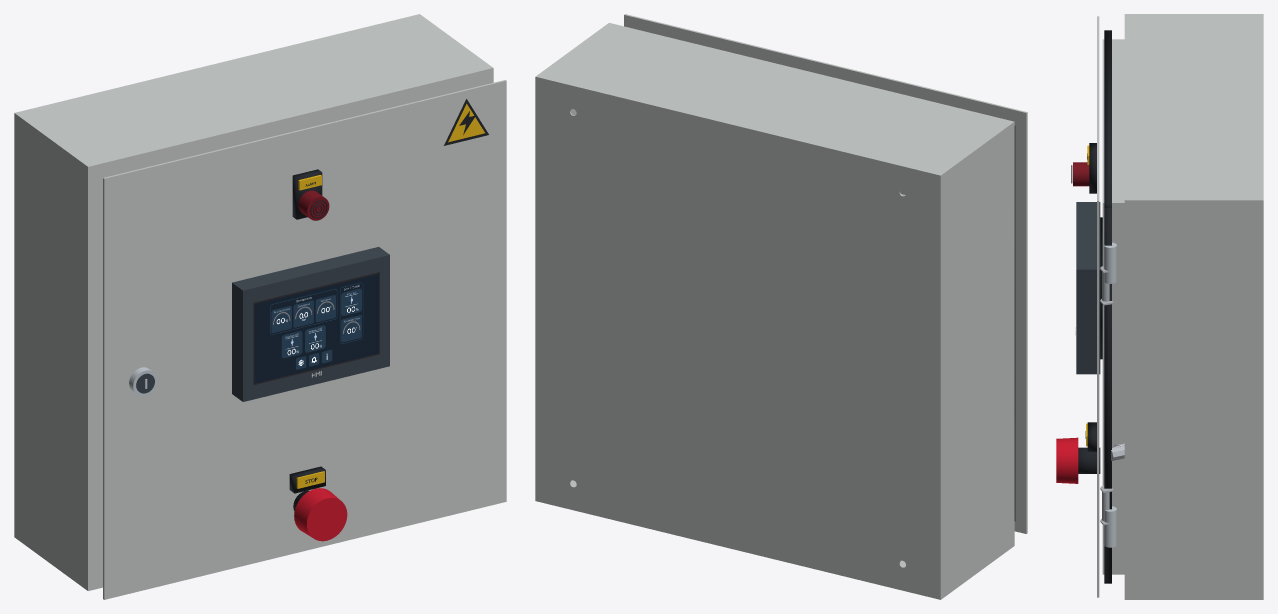
The model's file is cascade-frrWXbVv.glb.
The picture shows the model from 3 angles, left to right: view 1: azimuth 30°, elevation 25°; view 2: azimuth 150°, elevation 25°; view 3: azimuth 270°, elevation 25°; orthographic projection. The views are drawn at different scales.
Visible parts, largest first — view 1: cascade_door / grey, cascade_body / grey, cascade_door / HMI IMG_20260928_193400.jpg, cascade_door / dark, cascade_door / red, cascade_door / black, cascade_door / yellow, cascade_door / darkred; view 2: cascade_body / grey, cascade_door / grey, cascade_door / black; view 3: cascade_body / grey, cascade_door / black, cascade_door / dark, cascade_door / grey, cascade_door / red, cascade_body / steel, cascade_body / zinc, cascade_door / darkred.
Boxes of the visible parts, x1,y1,x2,y2 form: cascade_door / grey: (103,80,506,599); cascade_body / grey: (14,14,493,590); cascade_door / HMI IMG_20260928_193400.jpg: (253,272,379,384); cascade_door / dark: (136,247,389,401); cascade_door / red: (294,488,347,541); cascade_door / black: (289,99,488,511); cascade_door / yellow: (296,104,484,488); cascade_door / darkred: (298,190,329,220); cascade_body / grey: (535,23,1014,599); cascade_door / grey: (624,14,1027,533); cascade_door / black: (1014,126,1015,521); cascade_body / grey: (1102,14,1263,599); cascade_door / black: (1071,30,1111,583); cascade_door / dark: (1076,202,1100,374); cascade_door / grey: (1097,16,1099,597); cascade_door / red: (1056,437,1078,483); cascade_body / steel: (1103,242,1116,547); cascade_body / zinc: (1100,266,1113,525); cascade_door / darkred: (1073,162,1089,186).
Bounding box in the file's own units: 0.4 × 0.416 × 0.188.
Materials: 18 (1 with a texture image).
